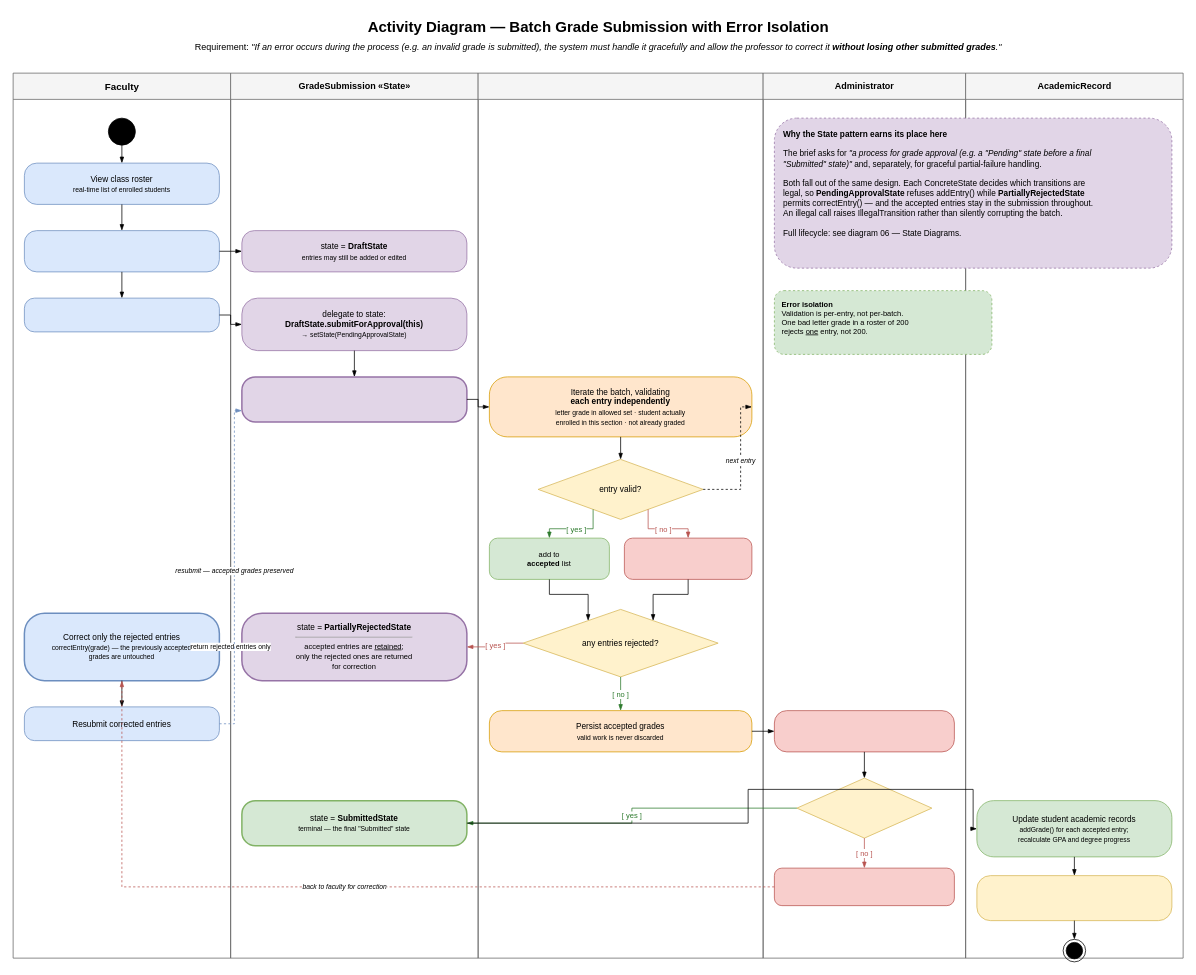
Image size: 1196x975. Some labels were removed from this diagram. Each missing label, with the box of its shape:
add to rejected list with the reason: (624, 537, 752, 579)
approve?: (796, 777, 932, 838)
BatchGradeProcessor: (477, 72, 763, 958)
Enter a batch of final grades for the whole section: (24, 230, 219, 272)
publish( GradesSubmitted ) Observer ④ — students and advisors notified: (976, 875, 1172, 921)
reject(reason) returns to faculty: (774, 867, 954, 906)
Review pending submission: (774, 710, 954, 752)
state = PendingApprovalState the "Pending" state named in the requirement: (241, 376, 467, 422)
submitForApproval(): (24, 297, 219, 332)
